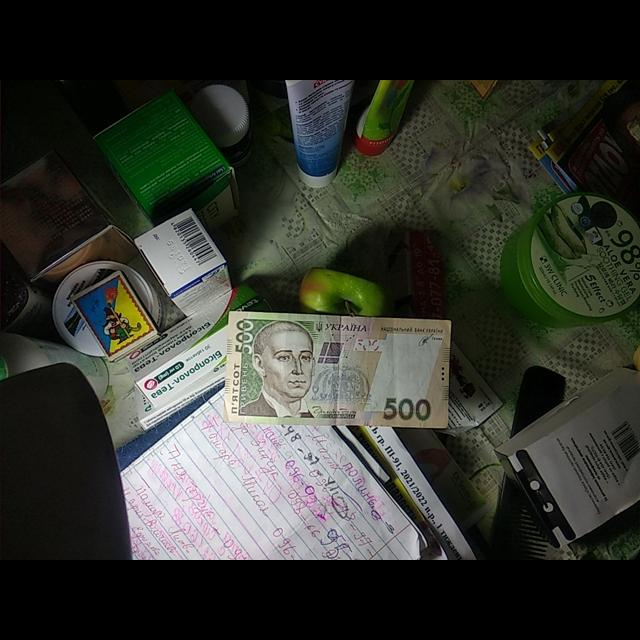500uah: (224, 312, 452, 430)
